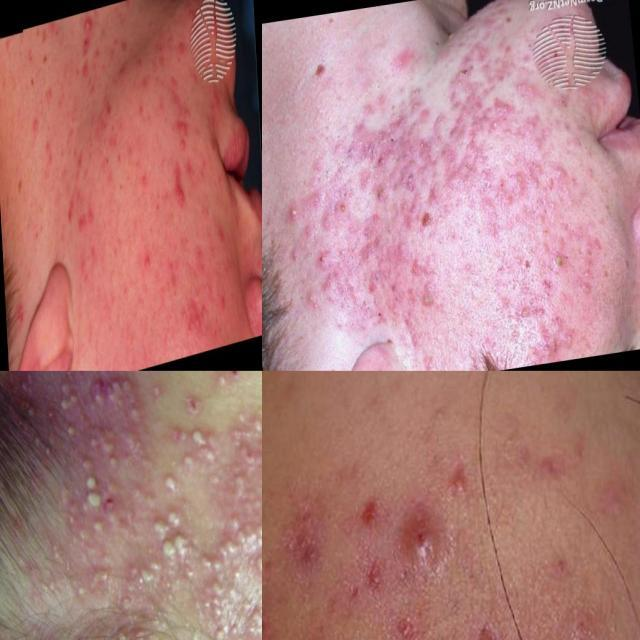Pimples: (390, 486, 458, 592), (55, 512, 118, 592), (30, 389, 86, 461), (143, 502, 197, 562), (196, 575, 244, 640), (72, 371, 147, 412), (176, 422, 224, 476), (528, 440, 572, 498), (94, 418, 146, 467), (117, 560, 169, 606), (0, 370, 60, 400), (243, 424, 262, 514), (200, 538, 242, 576), (442, 457, 472, 504), (234, 595, 262, 640), (502, 298, 546, 326), (75, 467, 106, 503), (531, 320, 557, 360), (201, 371, 230, 403), (173, 154, 187, 220), (394, 165, 420, 198), (274, 197, 302, 227), (376, 140, 408, 166), (410, 288, 437, 316), (368, 120, 398, 144), (102, 627, 156, 640), (484, 95, 510, 120), (242, 546, 262, 576), (546, 245, 565, 276), (309, 242, 331, 268), (206, 114, 218, 160), (244, 518, 262, 548), (509, 164, 528, 192), (366, 179, 388, 203), (414, 141, 432, 167), (514, 78, 536, 99), (514, 115, 536, 136), (136, 161, 148, 198), (77, 12, 94, 38), (71, 208, 87, 234), (217, 284, 227, 318), (143, 246, 153, 275), (178, 111, 187, 136), (216, 212, 223, 242), (193, 308, 199, 332)
